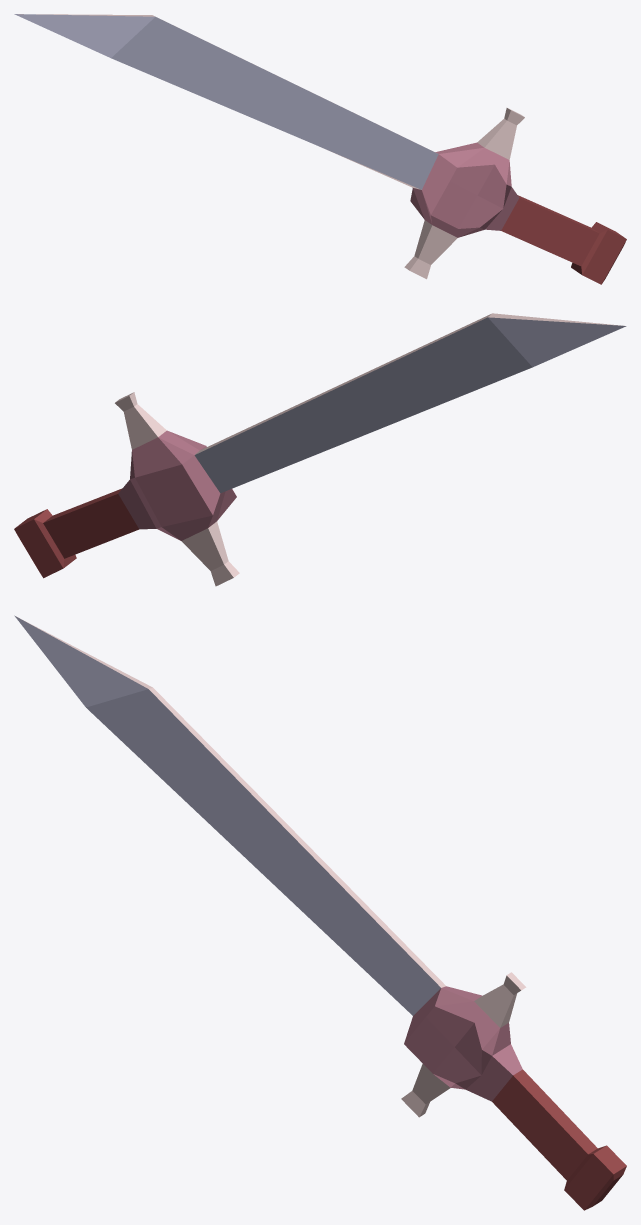
File: item-sword-4.glb
3 renders of one model, top to bottom at view 1: azimuth 30°, elevation 25°; view 2: azimuth 150°, elevation 25°; view 3: azimuth 330°, elevation 25°, orthographic. The views are drawn at different scales.
Parts seen in each view (by area): view 1: Cube; view 2: Cube; view 3: Cube.
Part boxes in pixels (x1,y1,x2,y2): Cube: [14, 14, 626, 284]; Cube: [14, 313, 626, 586]; Cube: [14, 615, 626, 1210].
Size of the model in its own units: 0.8896 by 0.5592 by 0.1015.
